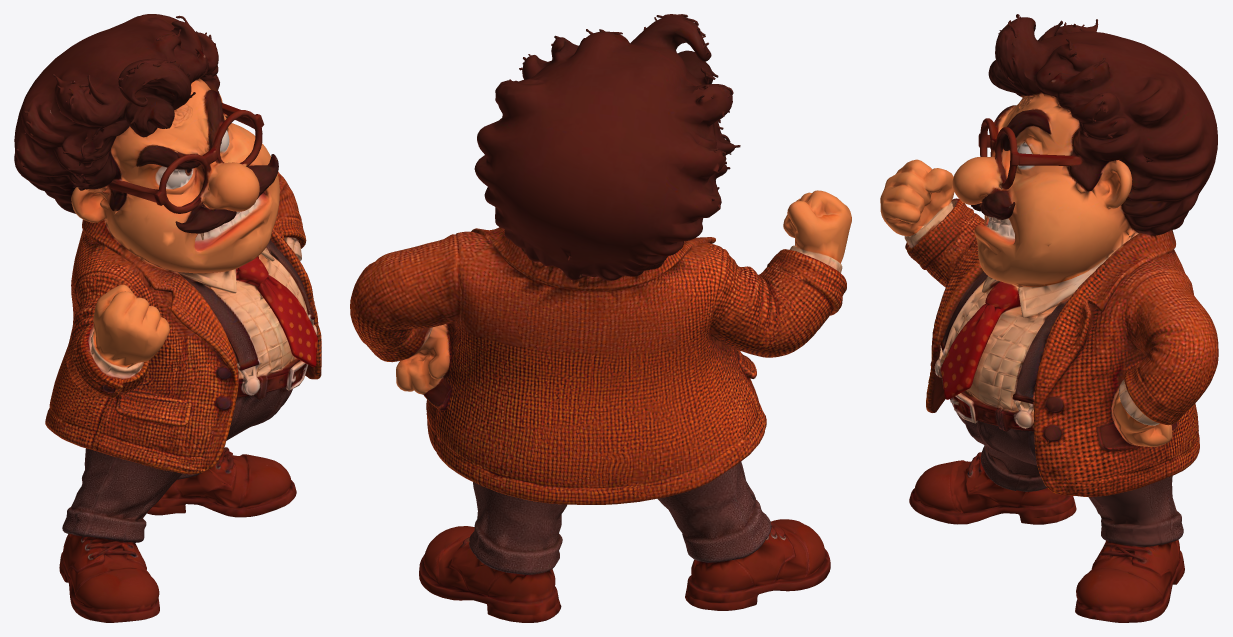
Rendered from bravo.glb.
The picture shows the model from 3 angles, left to right: view 1: azimuth 30°, elevation 25°; view 2: azimuth 150°, elevation 25°; view 3: azimuth 270°, elevation 25°; orthographic projection. The views are drawn at different scales.
Parts seen in each view (by area): view 1: tripo_node_7b0189e0-341b-4dbd-90d0-536a9f87aeca; view 2: tripo_node_7b0189e0-341b-4dbd-90d0-536a9f87aeca; view 3: tripo_node_7b0189e0-341b-4dbd-90d0-536a9f87aeca.
Part boxes in pixels (x1=…): tripo_node_7b0189e0-341b-4dbd-90d0-536a9f87aeca: x1=14, y1=14, x2=321, y2=622; tripo_node_7b0189e0-341b-4dbd-90d0-536a9f87aeca: x1=350, y1=14, x2=851, y2=622; tripo_node_7b0189e0-341b-4dbd-90d0-536a9f87aeca: x1=880, y1=14, x2=1218, y2=622.
Size of the model in its own units: 0.6596 by 0.9821 by 0.5802.
1 material, 1 textured.
